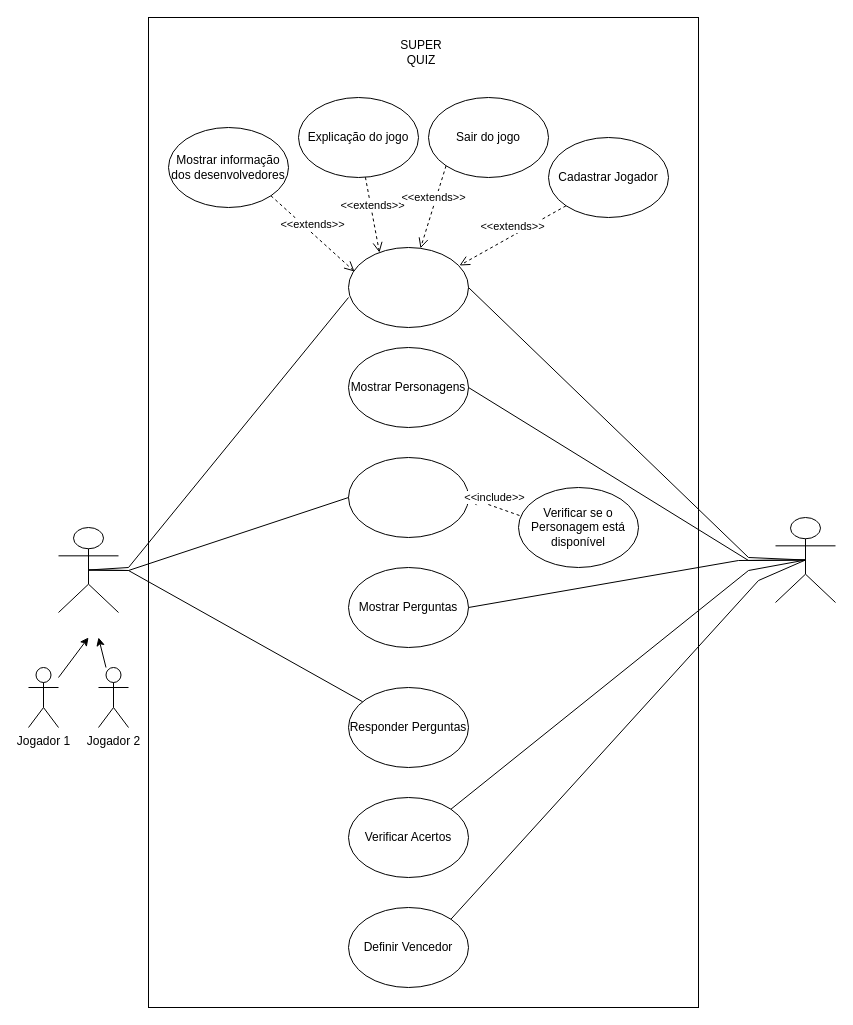
The diagram is 853 pixels wide and 1025 high, and some of its shapes have lost their labels. Each missing label, with the centre of its shape:
"Escolher Personagem" goes at [408,497].
"Jogador" goes at [88,569].
"Menu principal" goes at [408,287].
"Sistema" goes at [805,559].
